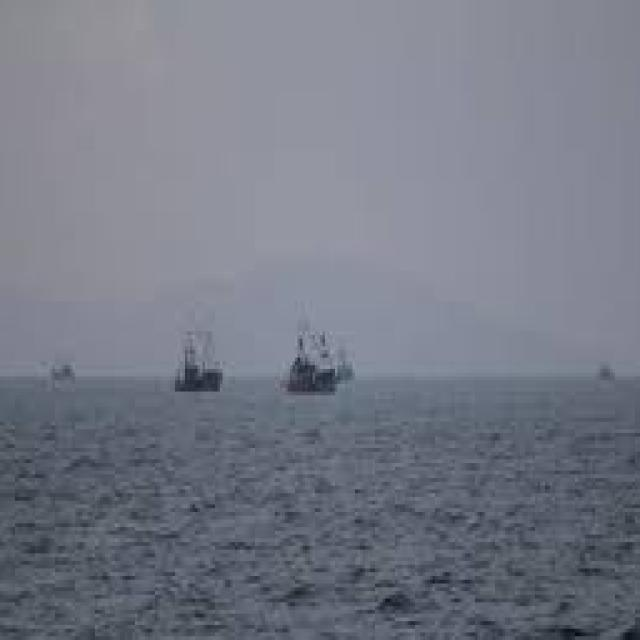fishing boat: (271, 320, 347, 398), (169, 324, 227, 385)
